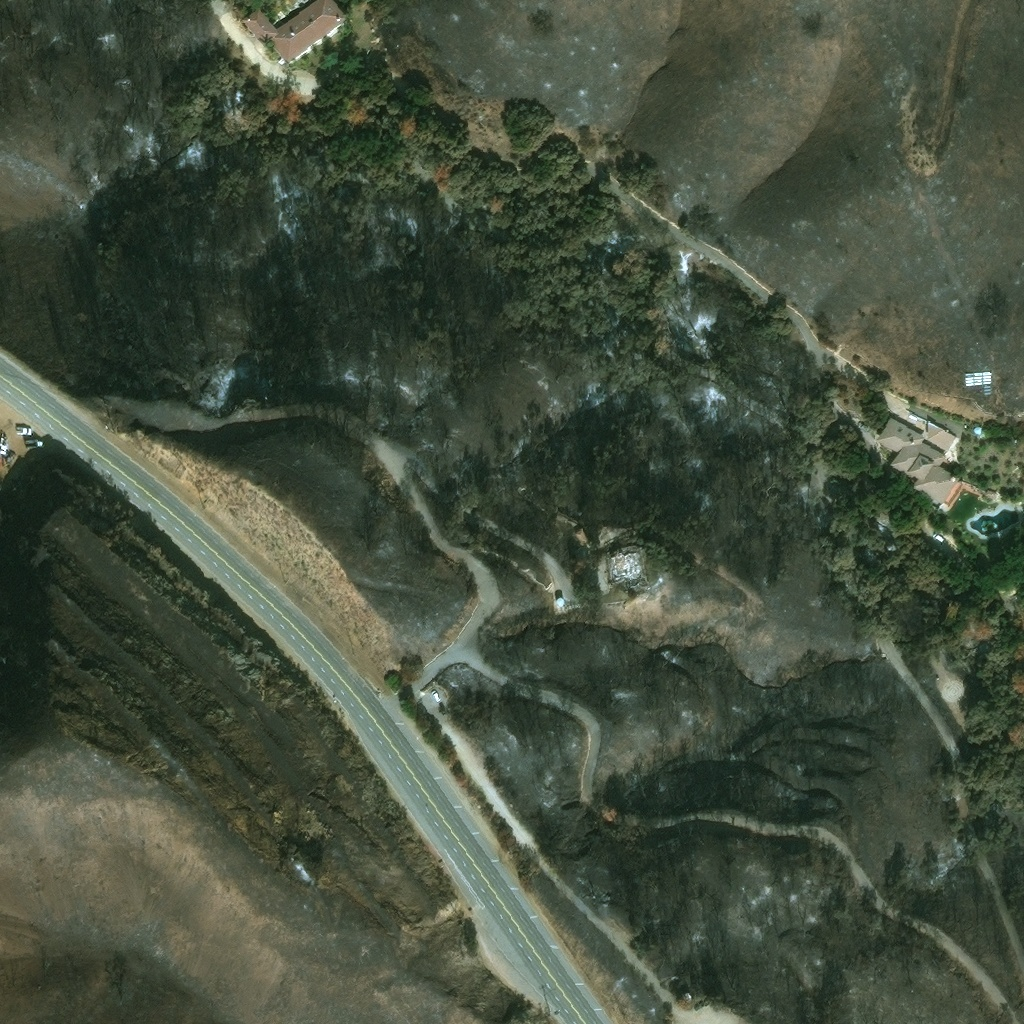0 no-damage: (876, 414, 967, 510), (241, 0, 352, 66), (927, 420, 954, 450), (972, 425, 983, 434), (554, 596, 564, 605)
1 minor-damage: (571, 524, 590, 547)
3 destroyed: (598, 543, 650, 594)
